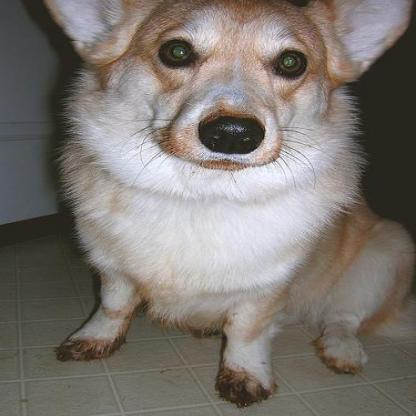Pembroke: (38, 0, 409, 407)
